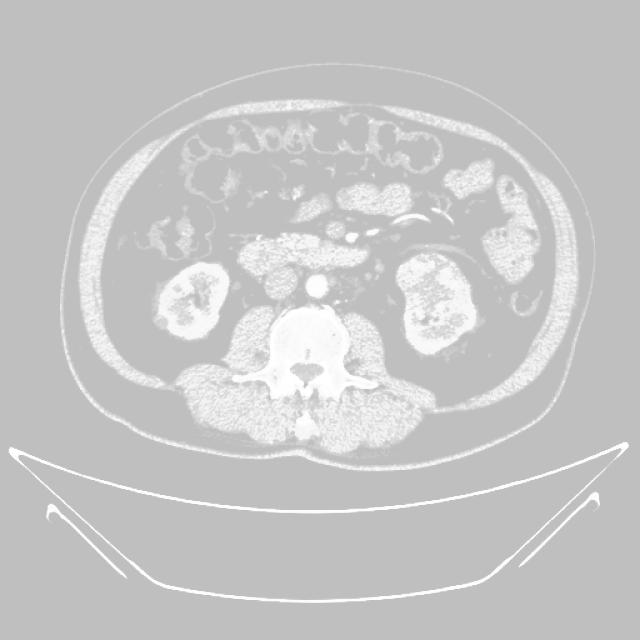TUMOR: (275, 179, 593, 372)
